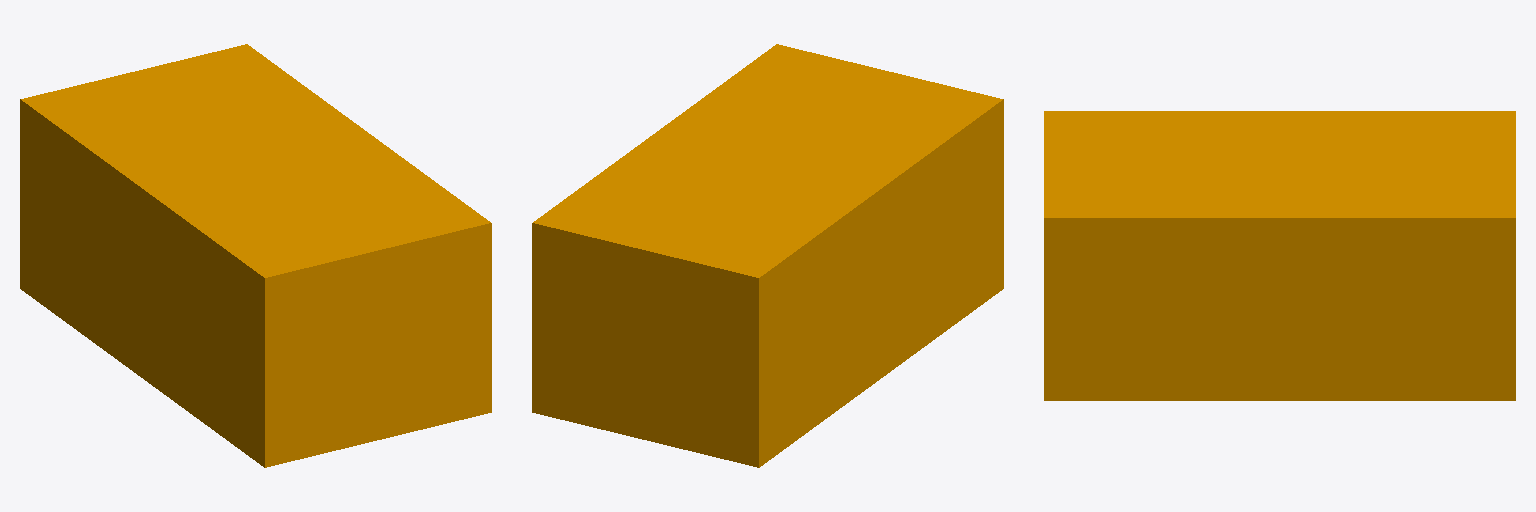
The robot description file, URDF, robot "2x2":
<?xml version='1.0' encoding='UTF-8'?>
<robot name="2x2">
  <link name="base_link">
    <inertial>
      <origin xyz="0.0 0.0 0.0" rpy="0.0 0.0 0.0"/>
      <mass value="0.01"/>
      <inertia ixx="0.1" ixy="0.0" ixz="0.0" iyy="0.1" iyz="0.0" izz="0.1"/>
    </inertial>
    <visual>
      <geometry>
        <box size="0.015 0.028 0.012"/>
      </geometry>
      <material name=""/>
      <origin xyz="0.0 0.0 0.0" rpy="0.0 0.0 0.0"/>
    </visual>
    <collision>
      <geometry>
        <box size="0.015 0.028 0.012"/>
      </geometry>
      <origin xyz="0.0 0.0 0.0" rpy="0.0 0.0 0.0"/>
    </collision>
  </link>
  <material name="">
    <color rgba="1. 1. 1. 1."/>
  </material>
  <contact>
    <lateral_friction value="1.0"/>
    <rolling_friction value="0.0"/>
    <contact_cfm value="0.0"/>
    <contact_erp value="1.0"/>
  </contact>
</robot>

--- What the picture shows (computed from the rendered views, not written in the file) ---
3 views of the same robot in one strip: view 1: azimuth 30°, elevation 25°; view 2: azimuth 150°, elevation 25°; view 3: azimuth 270°, elevation 25° (orthographic).
Robot: 2x2 — 1 links, 0 joints (none); root link base_link; default pose: all joints at 0.
Visible links, largest first — view 1: base_link; view 2: base_link; view 3: base_link.
Link boxes in pixels (<box>): base_link: <box>20,44,491,467</box>; base_link: <box>532,44,1003,467</box>; base_link: <box>1044,111,1515,400</box>.
Bounding box of the posed robot: 0.015 × 0.028 × 0.012 m (x, y, z).
Geometry: primitives only (box / cylinder / sphere), no mesh files.